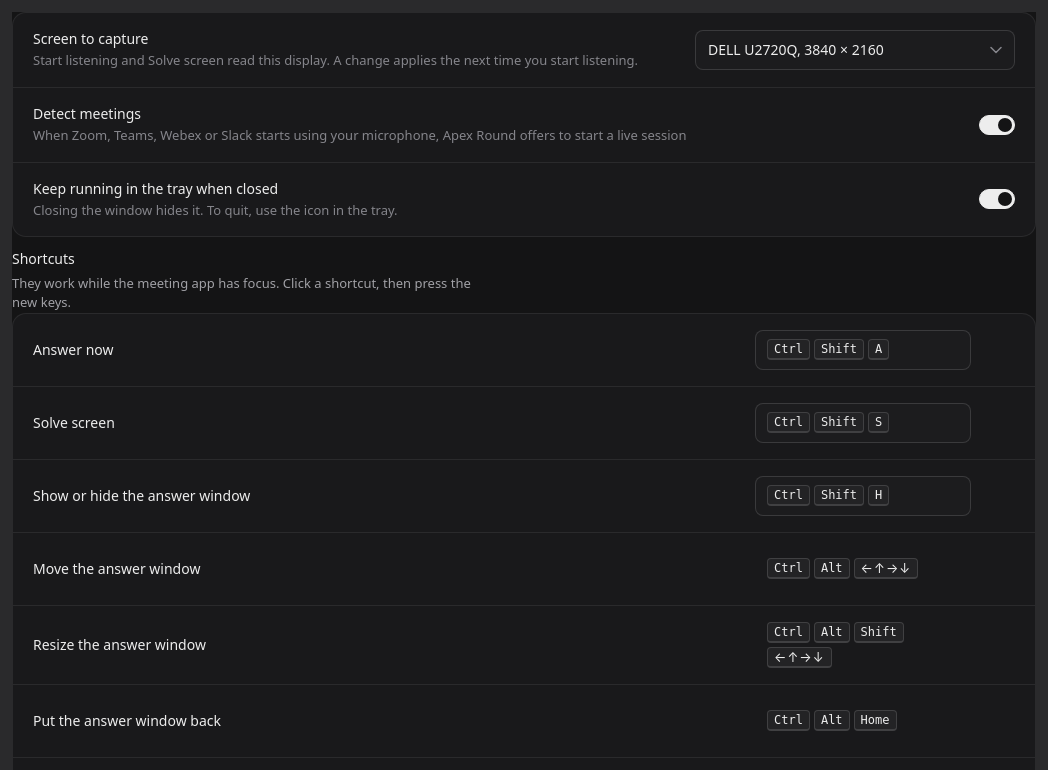
Test case: DesktopSettings › lists the displays and saves the display and switches at once
Select "Display 1 (main), 1920 × 1080" in the dropdown labelled "Screen to capture" at (855, 50), box [695,30,1015,70]
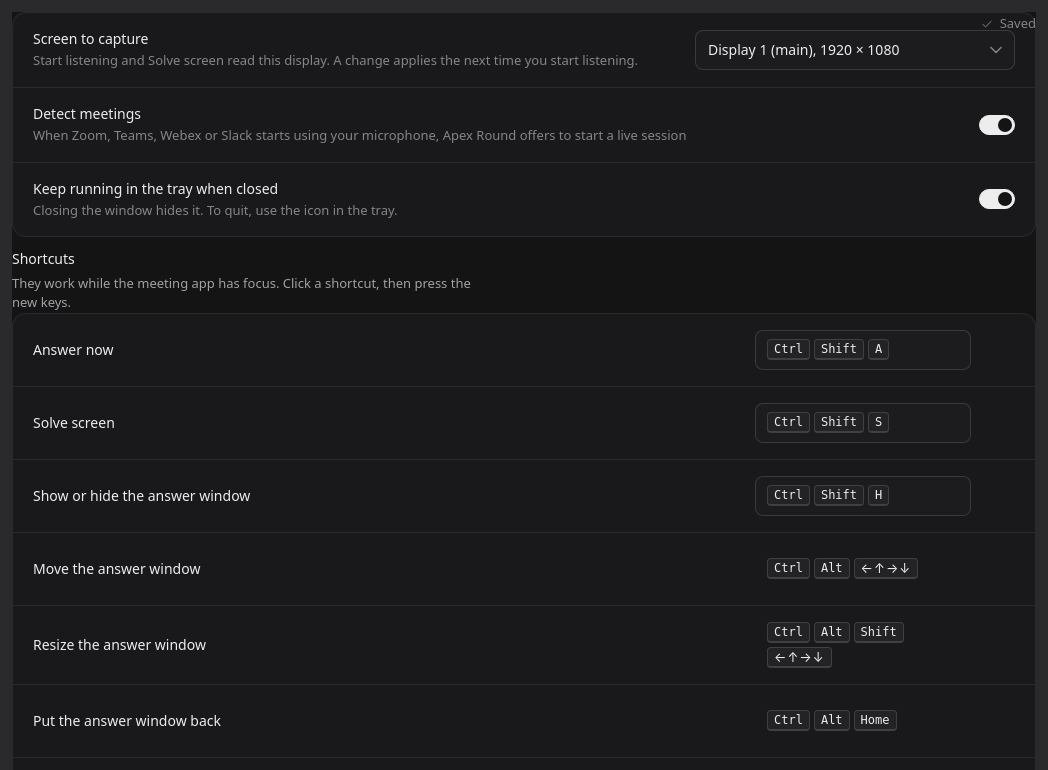
Check: the text "Saved" is shown, box [980,14,1036,34]
Click the switch labelled "Detect meetings" at (997, 125), box [979,115,1015,135]
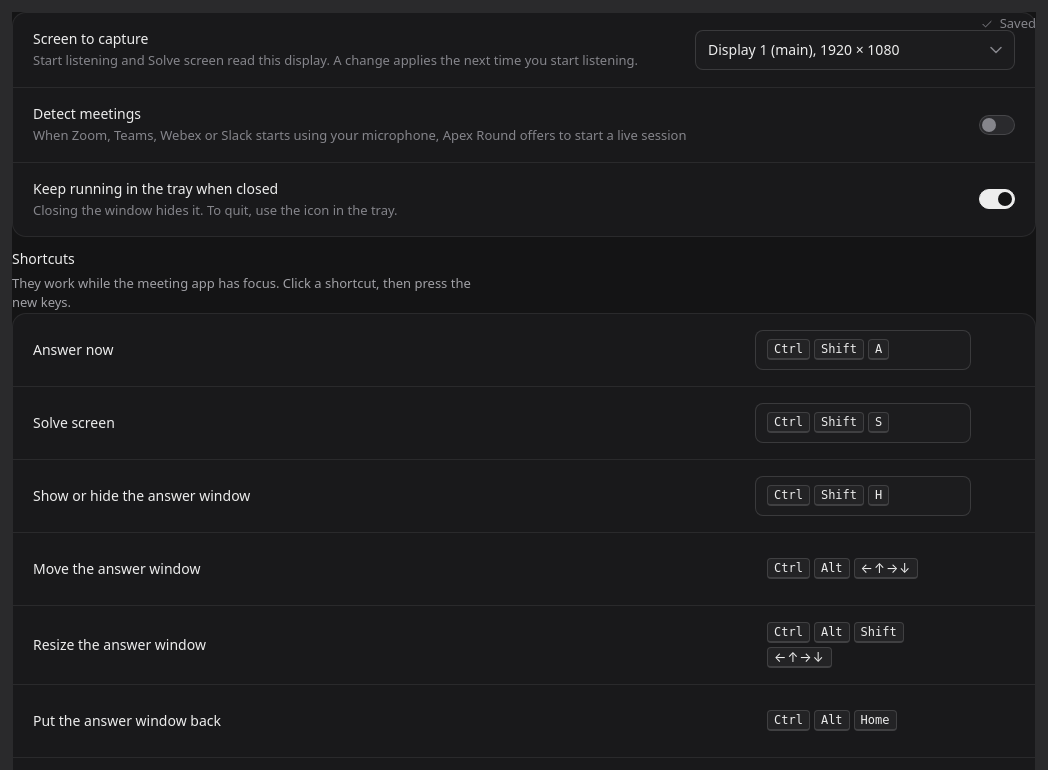
Click the switch labelled "Keep running in the tray when closed" at (997, 200), box [979,190,1015,210]
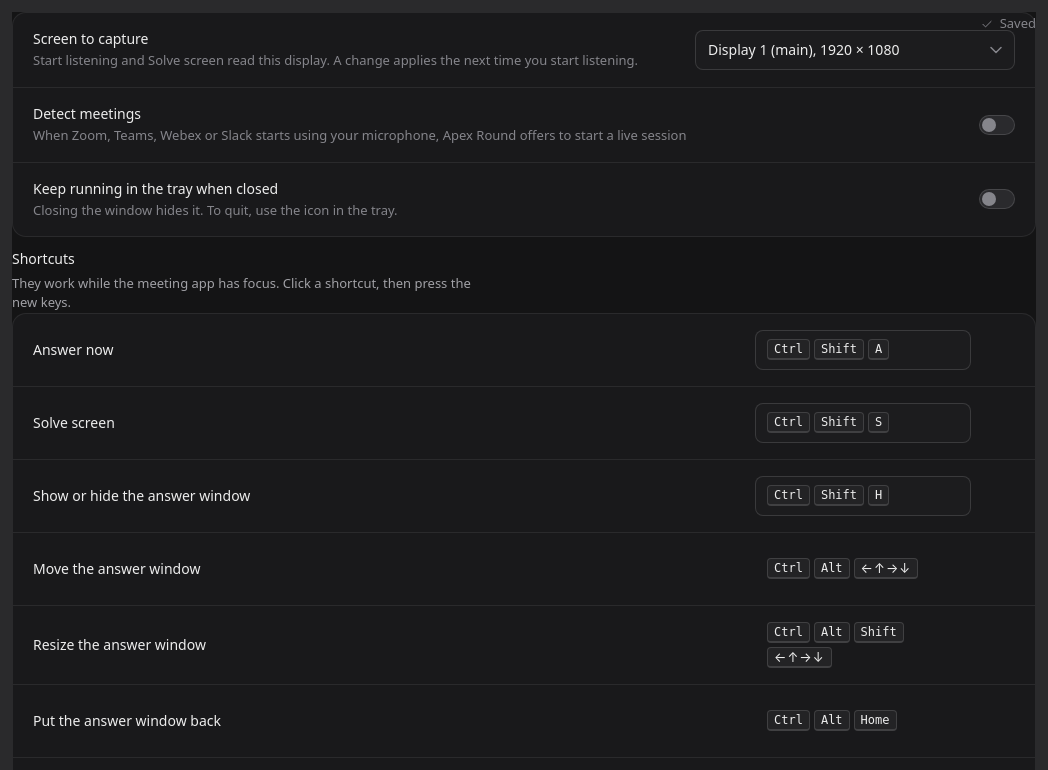
Check: the switch labelled "Detect meetings" is not checked, box [979,115,1015,135]
